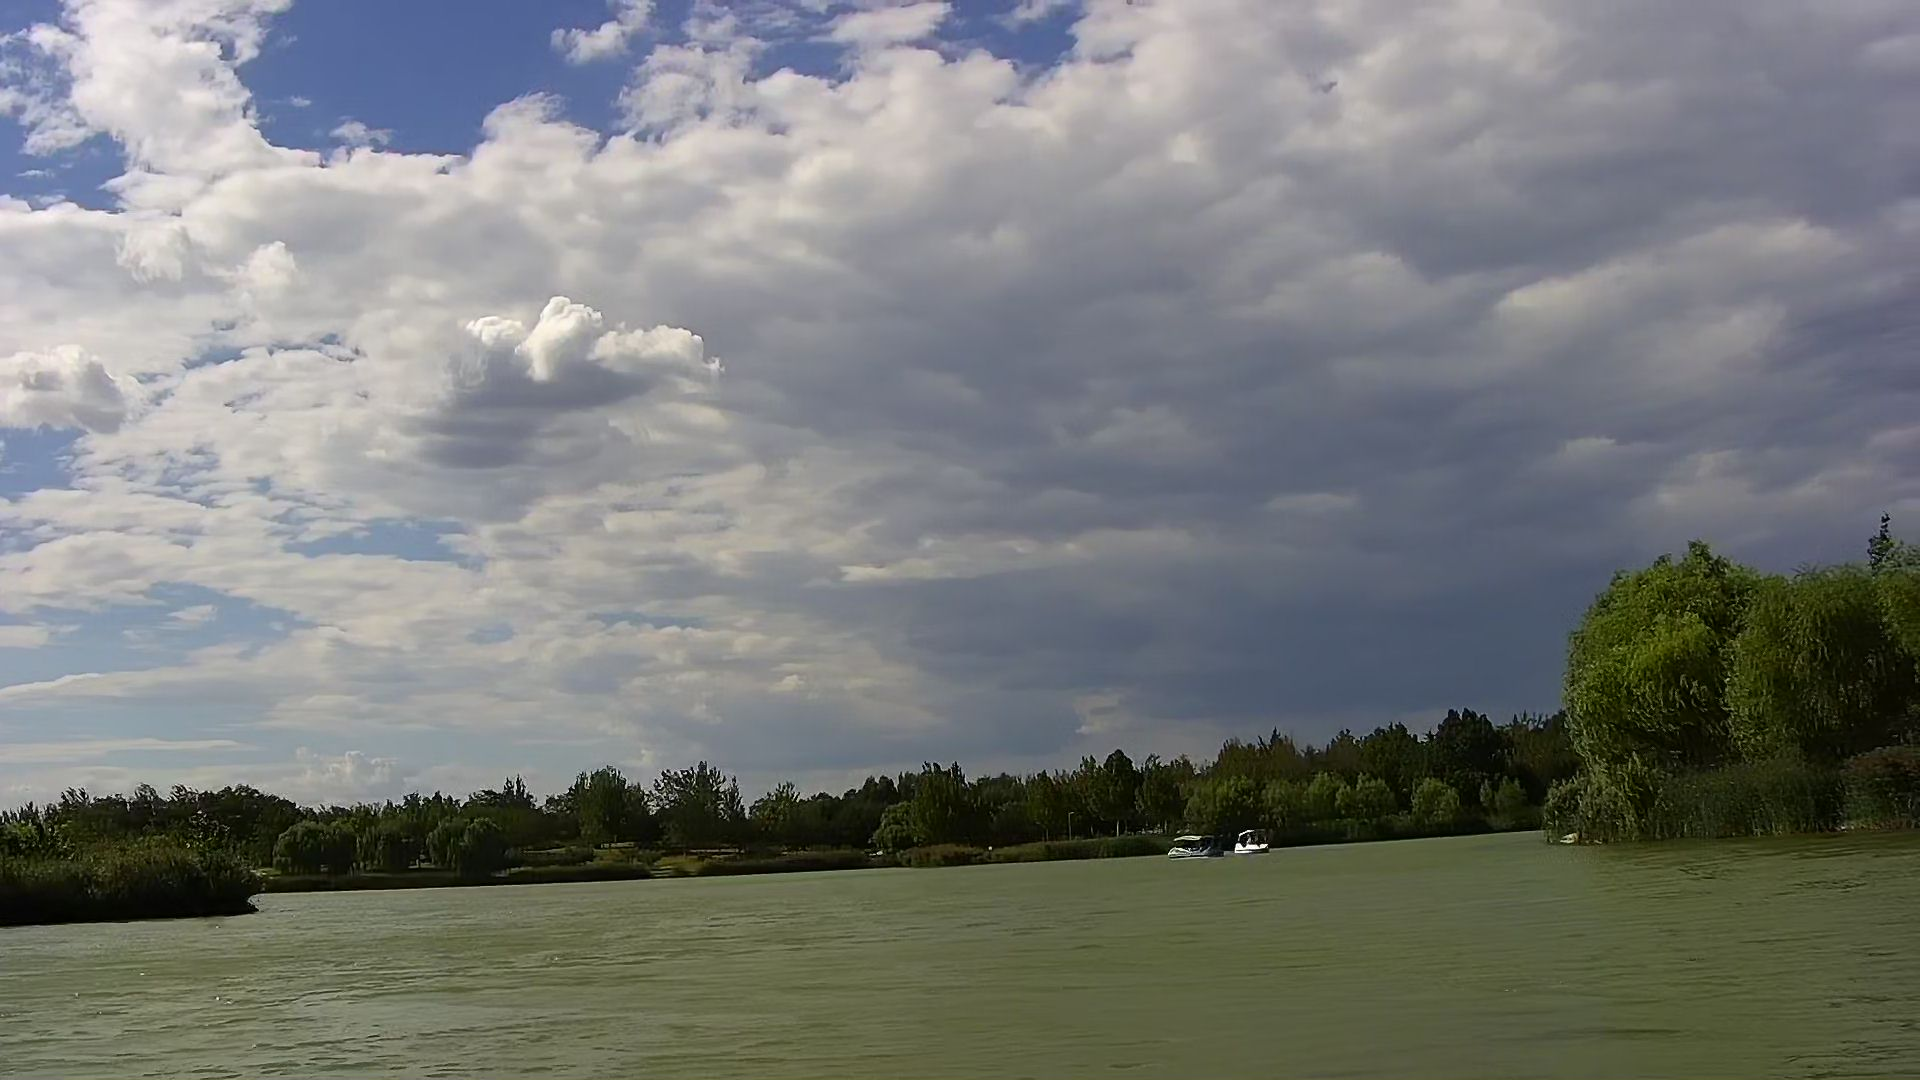boat: (1218, 831, 1276, 858), (1166, 832, 1215, 858)
rock: (1557, 827, 1581, 851)
